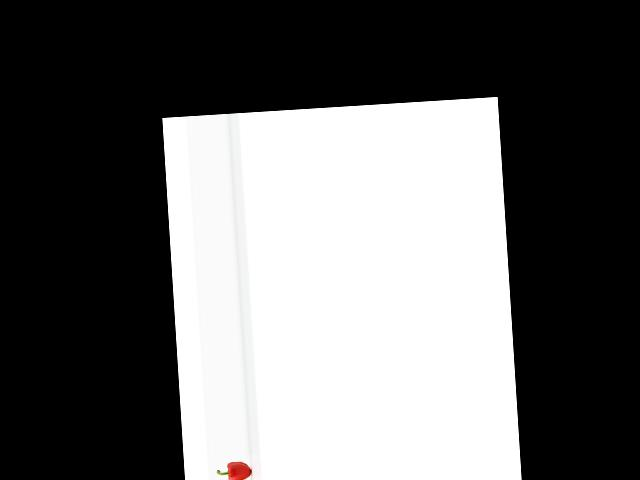bell_pepper: (213, 454, 255, 480)
